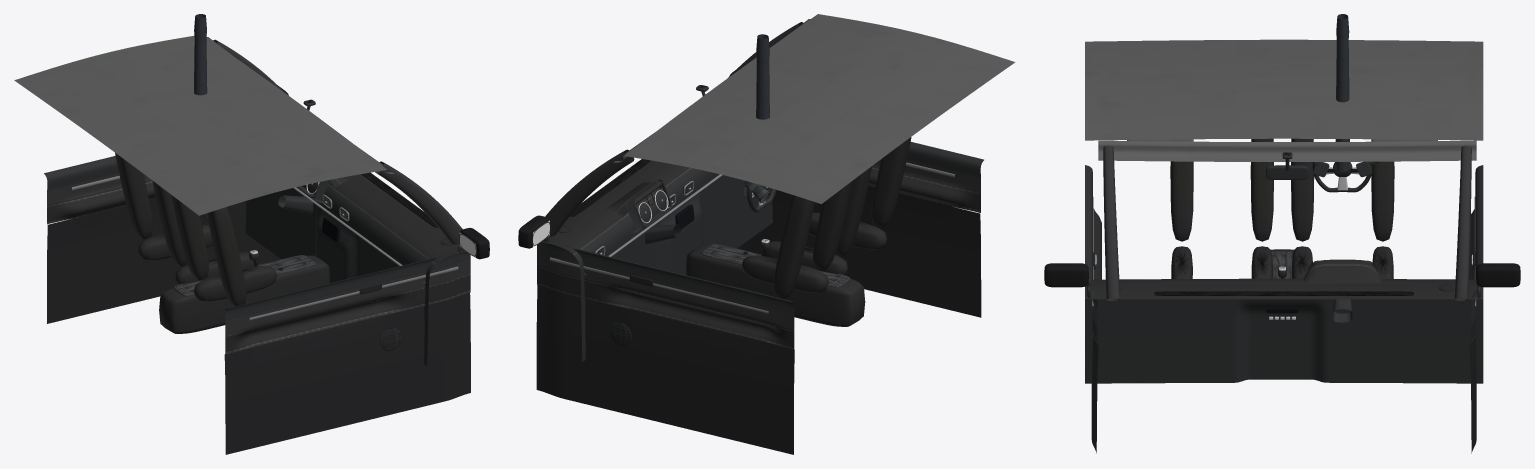
File: cockpit_high.glb
3 views of the same model, side by side, from view 1: azimuth 30°, elevation 25°; view 2: azimuth 150°, elevation 25°; view 3: azimuth 270°, elevation 25° (orthographic). The views are drawn at different scales.
Parts seen in each view (by area): view 1: cockpit_shell, cockpit_trim, cockpit_forearm_l; view 2: cockpit_shell, cockpit_trim, cockpit_forearm_l; view 3: cockpit_shell, cockpit_forearm_l, cockpit_wheel.
Boxes of the visible parts, x1=… form: cockpit_shell: x1=14, y1=36, x2=489, y2=454; cockpit_trim: x1=72, y1=175, x2=458, y2=320; cockpit_forearm_l: x1=194, y1=14, x2=207, y2=95; cockpit_shell: x1=518, y1=14, x2=1015, y2=454; cockpit_trim: x1=549, y1=159, x2=954, y2=313; cockpit_forearm_l: x1=756, y1=34, x2=769, y2=187; cockpit_shell: x1=1044, y1=39, x2=1520, y2=453; cockpit_forearm_l: x1=1335, y1=14, x2=1350, y2=171; cockpit_wheel: x1=1312, y1=161, x2=1372, y2=192.
Size of the model in its own units: 2.1 by 2.35 by 2.85.
4 materials, 3 textured.
